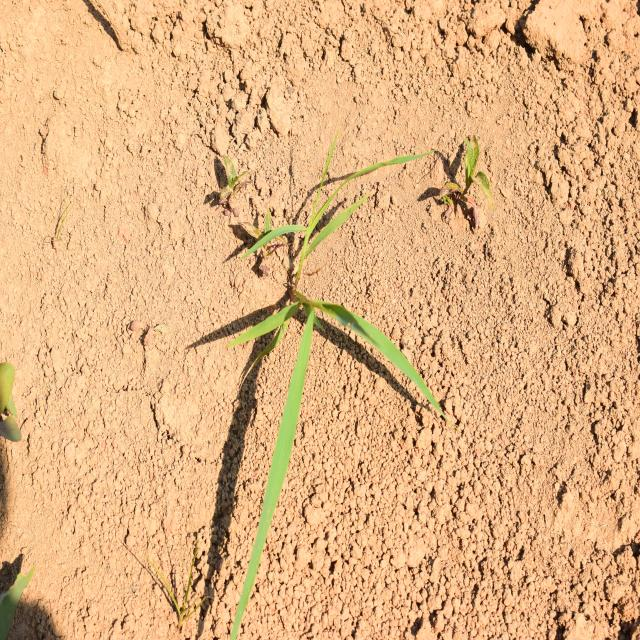green_foxtail: (232, 142, 417, 507)
